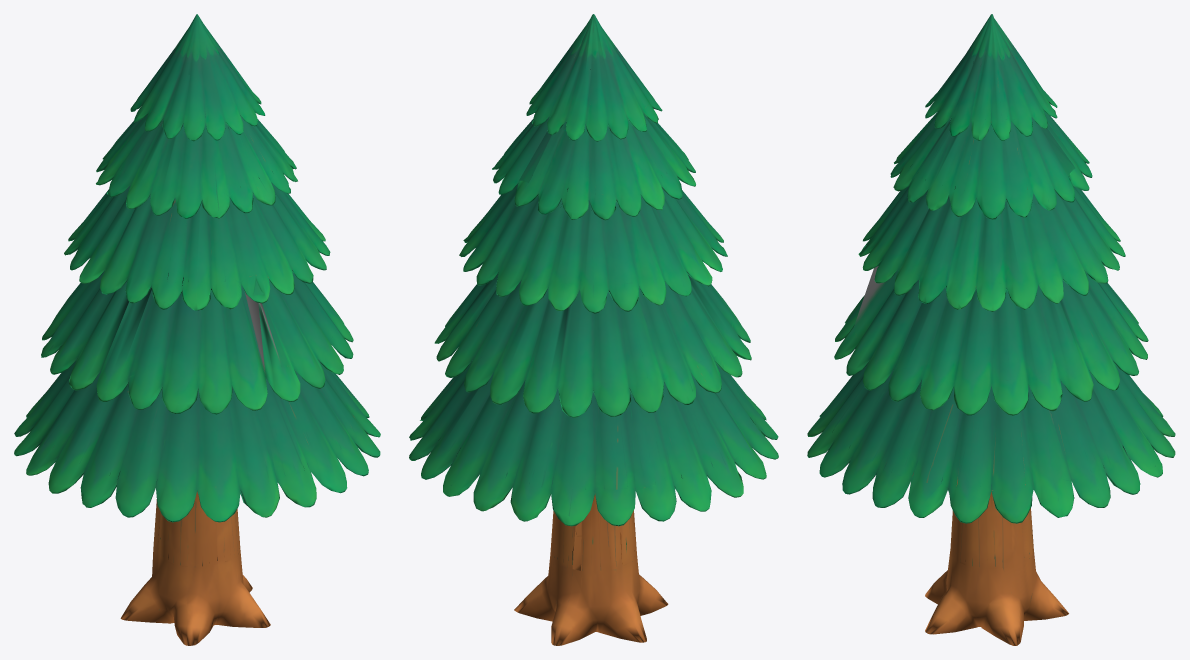
File: Meshy_AI_ac_pine_tree_3d_1102122723_texture.glb
3 renders of one model, left to right at view 1: azimuth 30°, elevation 25°; view 2: azimuth 150°, elevation 25°; view 3: azimuth 270°, elevation 25°, orthographic.
Parts seen in each view (by area): view 1: geometry_0; view 2: geometry_0; view 3: geometry_0.
Part boxes in pixels (left/top/right/bottom): geometry_0: left=14, top=14, right=380, bottom=645; geometry_0: left=409, top=14, right=778, bottom=645; geometry_0: left=807, top=14, right=1175, bottom=645.
Bounding box in the file's own units: 1.67 × 3 × 1.67.
Materials: 1 (1 with a texture image).
